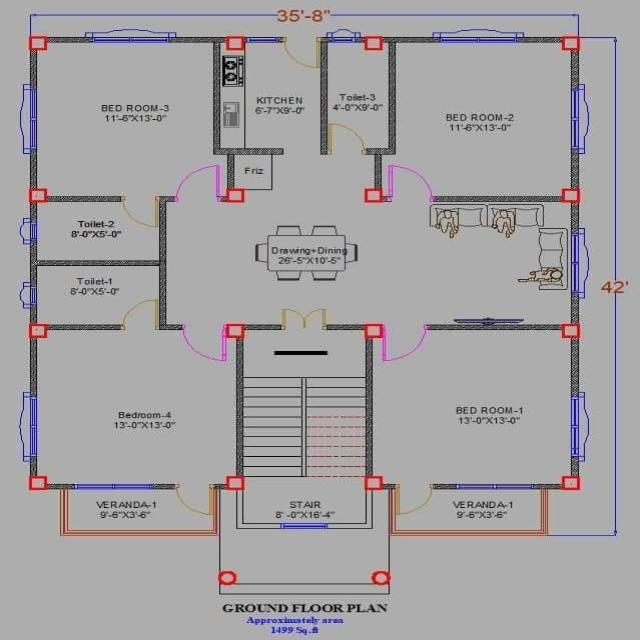column: (560, 186, 584, 206), (224, 322, 248, 340), (362, 321, 386, 339), (559, 474, 583, 492), (361, 474, 386, 491), (27, 474, 50, 492), (560, 34, 583, 52), (224, 187, 248, 204), (363, 35, 387, 52), (27, 186, 49, 204), (560, 322, 582, 340), (26, 322, 49, 339), (225, 34, 246, 52), (27, 35, 50, 51), (225, 475, 248, 491), (363, 187, 384, 204)
